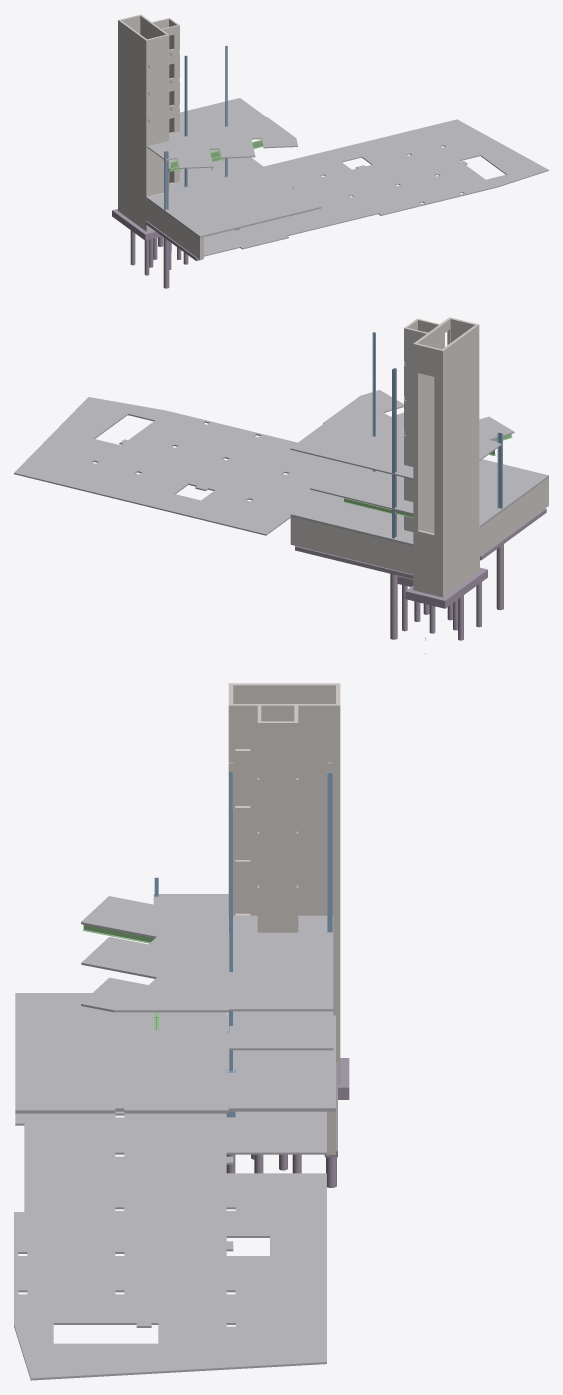
File: 06318b8e-7bdb-48d3-8f39-2ac77fda5692.glb
3 renders of one model, top to bottom at view 1: azimuth 30°, elevation 25°; view 2: azimuth 150°, elevation 25°; view 3: azimuth 270°, elevation 25°, orthographic. The views are drawn at different scales.
Parts seen in each view (by area): view 1: 4738, 3051, 3948, 3289; view 2: 4738, 3051, 3948, 3289; view 3: 4738, 3051, 3289, 3948.
Part boxes in pixels (x1,y1,x2,y2): 4738: (146, 98, 548, 256); 3051: (118, 14, 203, 259); 3948: (112, 209, 201, 288); 3289: (164, 45, 228, 210); 4738: (14, 390, 548, 546); 3051: (290, 317, 548, 597); 3948: (295, 508, 546, 640); 3289: (372, 332, 502, 538); 4738: (14, 894, 335, 1380); 3051: (226, 683, 340, 1154); 3289: (154, 772, 332, 1117); 3948: (226, 1058, 349, 1187).
Size of the model in its own units: 63.31 by 35 by 36.63.
